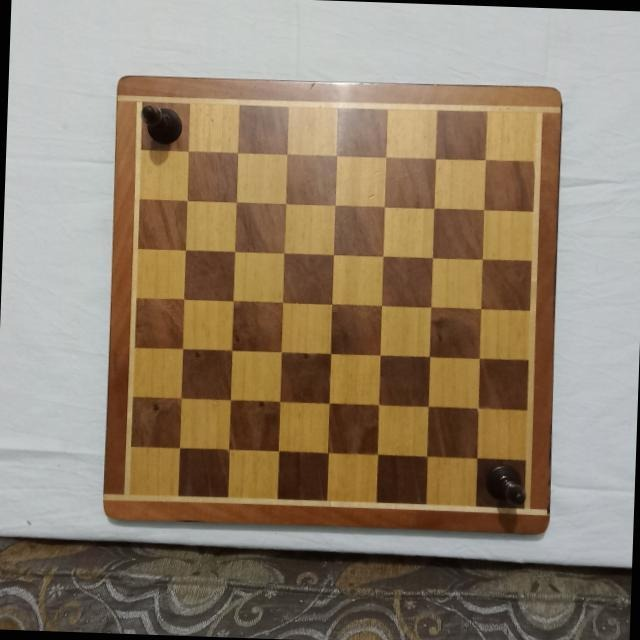black-bishop: (483, 461, 527, 507), (139, 103, 181, 144)
